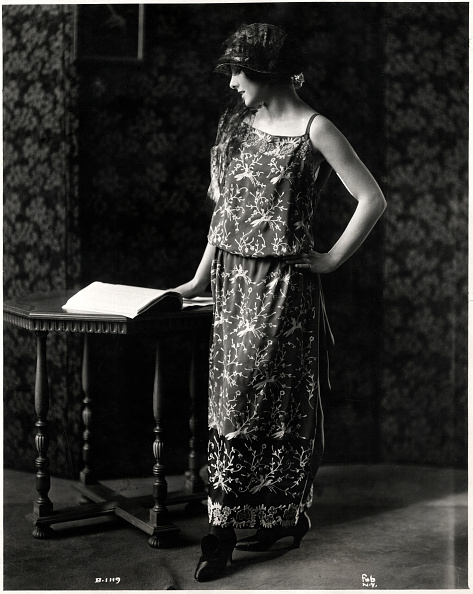em pe: (125, 20, 376, 548)
